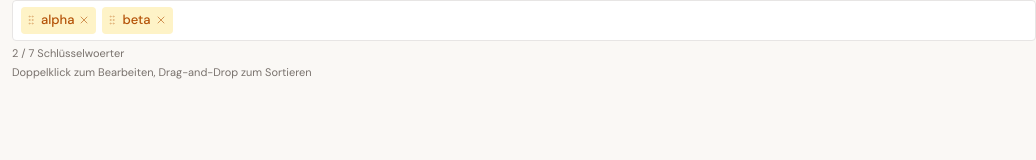
Test: KeywordInput - inline edit › double-click on a chip enters edit mode with the current value focused
Double-click the element with test id "keyword-chip-0".
double_click(59, 20)  # box [21,7,96,34]
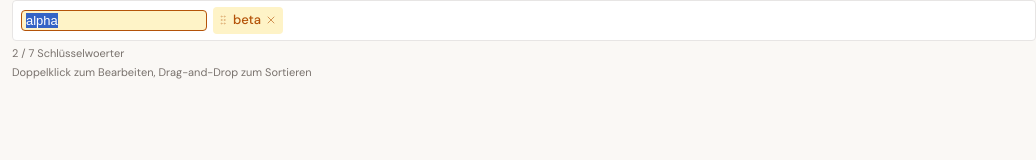
expect the field with test id "keyword-chip-0-edit-input" holds "alpha": met, box [26,13,202,28]
